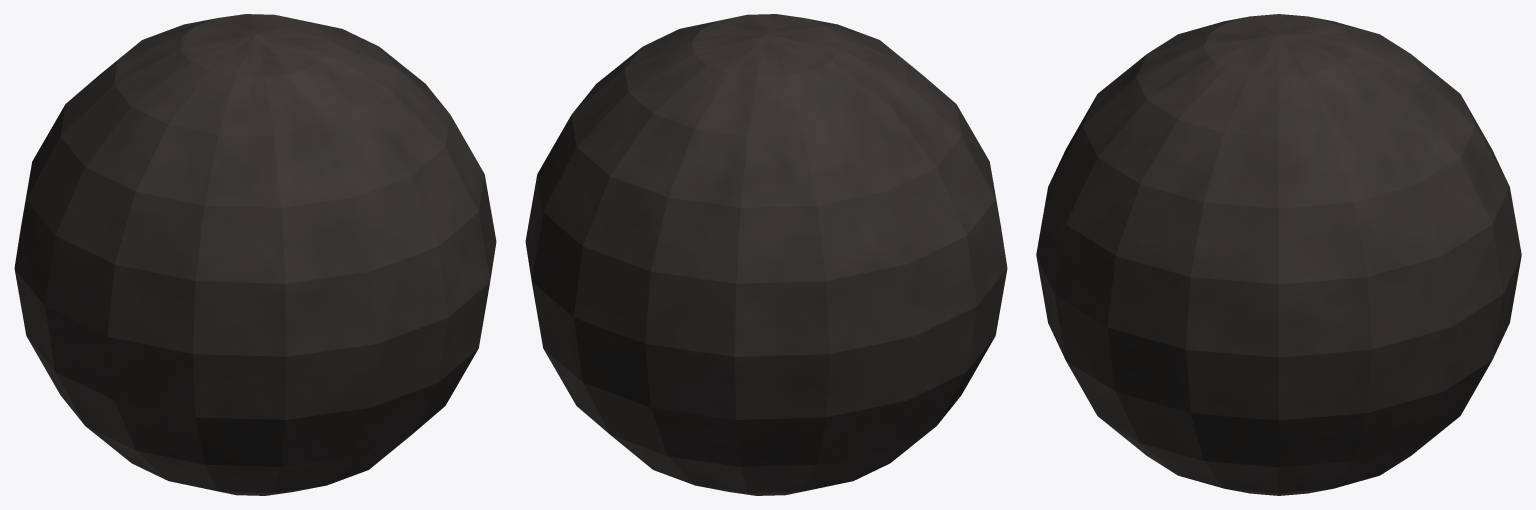
3 views of the same model, side by side, from view 1: azimuth 30°, elevation 25°; view 2: azimuth 150°, elevation 25°; view 3: azimuth 270°, elevation 25° (orthographic).
Visible parts, largest first — view 1: shell; view 2: shell; view 3: shell.
Part boxes in pixels (x1,y1,x2,y2): shell: (14, 14, 496, 495); shell: (525, 14, 1007, 495); shell: (1036, 14, 1521, 495).
Bounding box in the file's own units: 0.28 × 0.28 × 0.28.
1 material, 1 textured.
